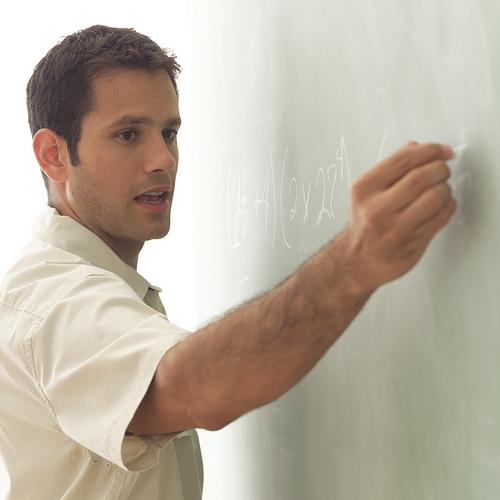person: (3, 25, 458, 500)
